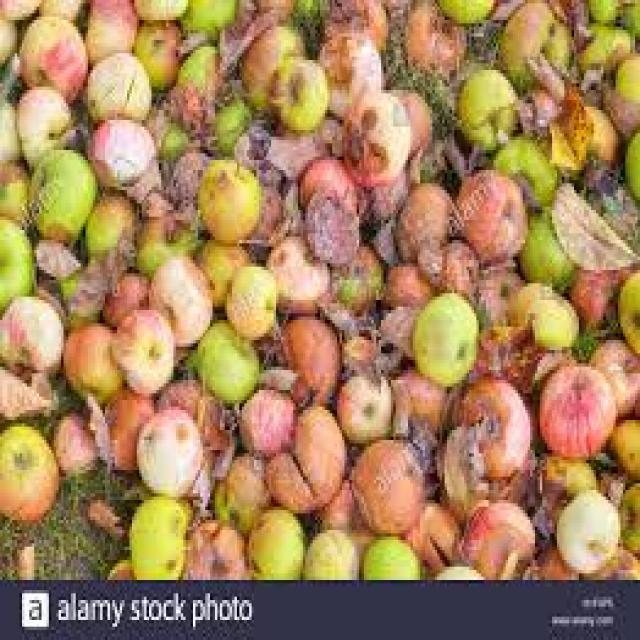organic waste: (0, 0, 638, 577), (264, 400, 344, 510), (452, 374, 525, 484), (547, 177, 638, 263), (154, 373, 232, 470), (347, 437, 425, 530), (495, 0, 571, 93), (22, 143, 93, 240), (450, 166, 525, 256), (537, 360, 611, 447), (547, 97, 621, 183), (83, 110, 156, 197), (572, 160, 638, 253), (144, 250, 210, 343), (454, 494, 530, 574), (274, 307, 337, 403), (17, 10, 86, 97), (134, 407, 203, 493), (413, 287, 476, 380), (342, 87, 405, 180), (552, 487, 618, 573), (0, 417, 54, 520), (432, 417, 484, 523), (315, 27, 379, 110), (125, 493, 188, 577), (454, 64, 520, 144), (555, 487, 618, 570), (193, 313, 252, 400), (110, 303, 171, 387), (198, 153, 259, 237), (386, 360, 447, 443), (0, 290, 61, 373), (266, 50, 328, 130), (195, 157, 259, 233), (81, 54, 149, 124), (240, 27, 300, 106), (332, 363, 393, 440), (533, 453, 596, 527), (264, 233, 327, 307), (64, 316, 122, 396), (488, 133, 557, 200), (98, 377, 151, 463), (586, 333, 638, 420), (474, 313, 535, 387), (469, 437, 537, 503), (508, 276, 572, 346), (391, 180, 447, 260), (212, 446, 268, 526), (508, 207, 569, 280), (15, 80, 70, 157), (401, 0, 464, 67), (220, 263, 276, 337), (80, 183, 136, 257), (562, 263, 625, 327), (405, 490, 457, 567), (215, 7, 286, 63), (303, 187, 357, 260), (247, 503, 300, 577), (178, 517, 247, 573), (130, 17, 183, 86), (237, 387, 293, 450), (545, 87, 591, 163), (327, 240, 379, 307), (137, 206, 195, 266), (415, 233, 474, 290), (315, 0, 386, 47), (195, 233, 247, 297), (335, 330, 403, 377), (156, 83, 212, 140), (472, 260, 525, 320), (264, 120, 330, 167), (386, 83, 432, 150), (296, 153, 352, 207), (0, 363, 56, 417), (80, 0, 136, 53), (51, 407, 98, 470), (572, 23, 630, 74), (298, 526, 354, 576), (0, 213, 32, 297), (372, 300, 416, 360), (359, 530, 420, 573), (100, 267, 149, 320), (350, 177, 406, 223), (205, 93, 252, 147), (81, 380, 110, 467), (522, 44, 572, 94), (310, 477, 357, 530), (54, 267, 100, 320), (0, 153, 32, 227), (606, 410, 638, 480), (379, 304, 415, 364), (381, 260, 430, 303), (174, 40, 218, 87), (247, 180, 283, 237), (317, 300, 378, 333), (147, 103, 183, 157), (582, 540, 638, 573), (616, 263, 638, 347), (601, 80, 637, 130), (520, 83, 560, 127), (30, 236, 74, 276), (232, 113, 271, 157), (176, 0, 237, 27), (528, 540, 576, 573), (0, 93, 24, 159), (618, 480, 638, 550), (185, 467, 212, 513), (610, 50, 638, 93), (432, 0, 501, 17), (623, 124, 637, 204), (237, 0, 293, 17), (428, 560, 483, 577), (34, 0, 83, 17), (0, 17, 17, 66), (618, 0, 638, 40), (0, 50, 17, 97), (129, 0, 188, 13), (586, 0, 628, 17), (0, 0, 39, 17), (256, 156, 278, 186), (105, 550, 127, 577)
